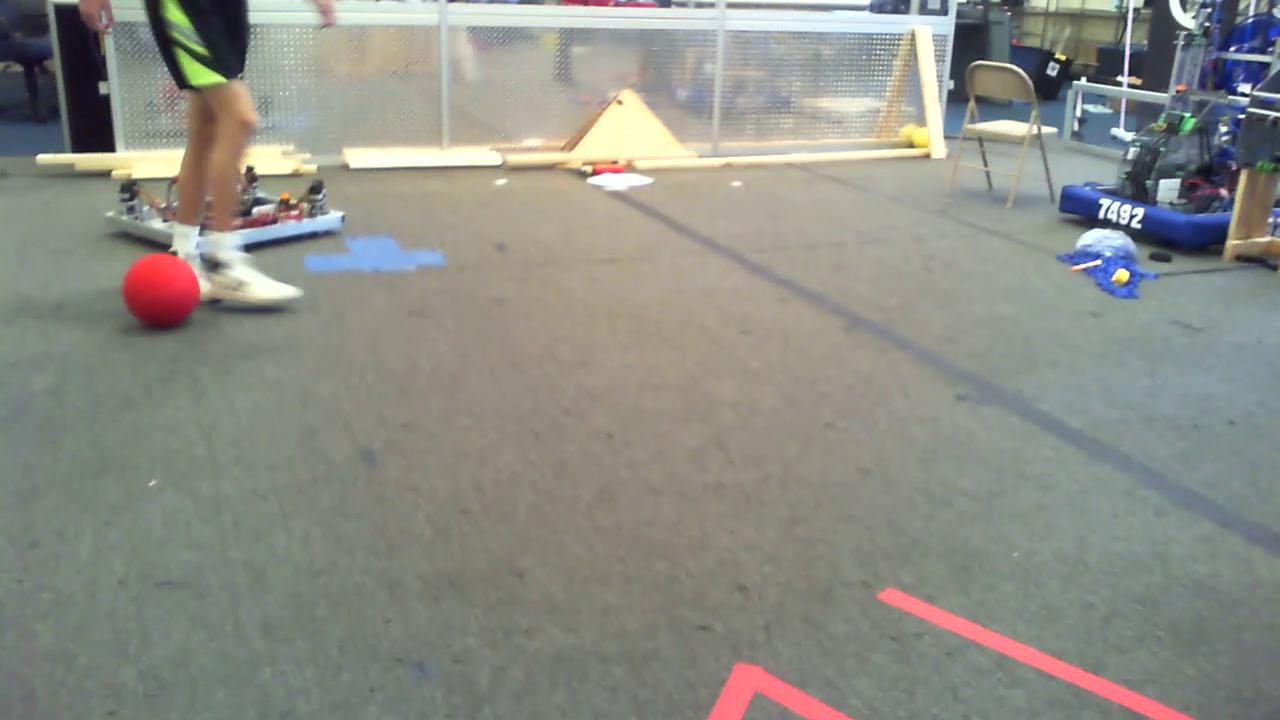Red_Ball: (113, 248, 205, 326)
